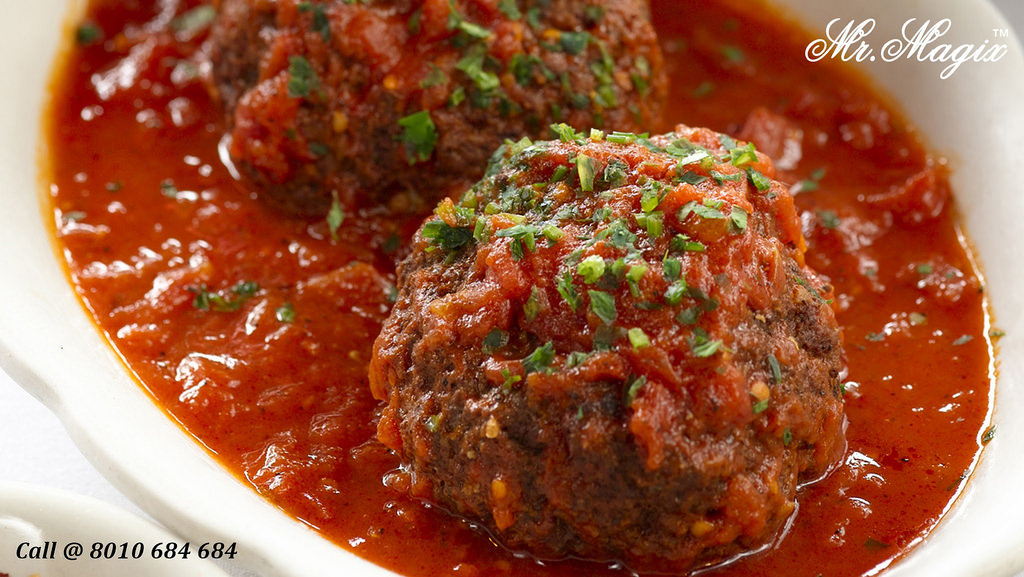meatballs: (432, 147, 822, 542), (278, 34, 573, 211)
